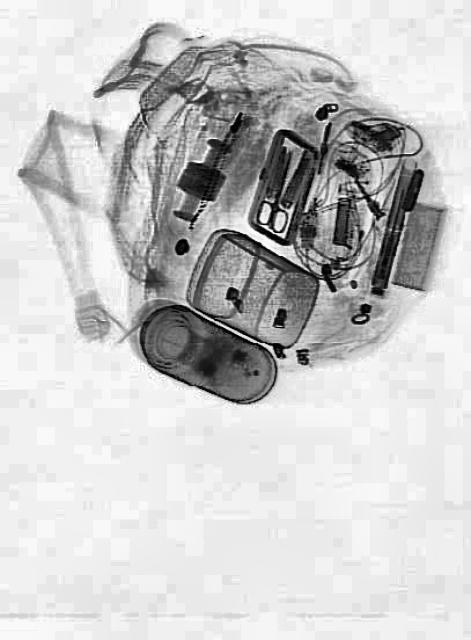Scissors: (250, 145, 304, 237)
